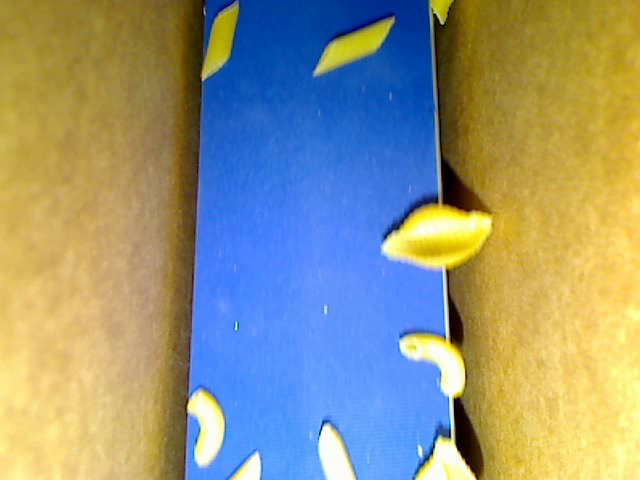elbow: (399, 330, 466, 398), (186, 386, 225, 468)
penne: (312, 17, 396, 76), (200, 1, 240, 80), (316, 421, 357, 479), (227, 449, 262, 479)
shell: (380, 203, 493, 271), (411, 434, 477, 479)
